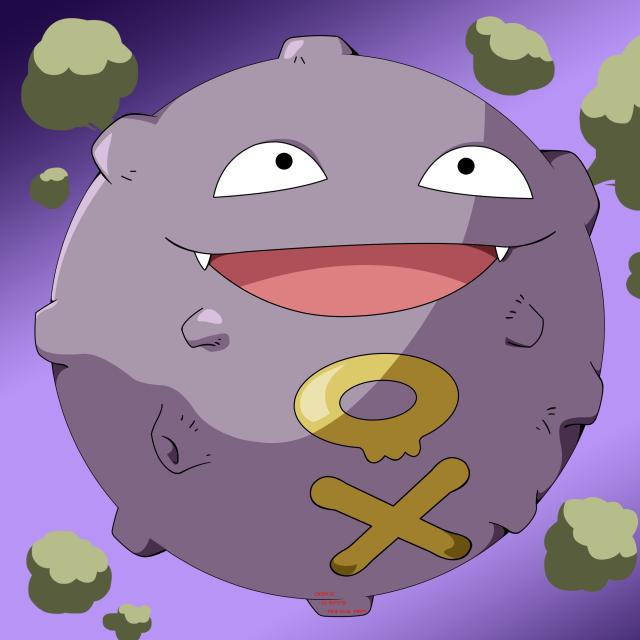Koffing: (33, 42, 606, 617)
